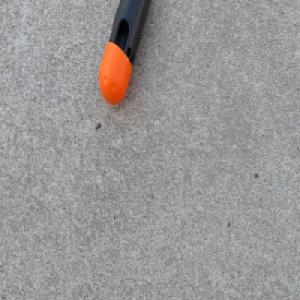PlasticPart: (97, 0, 151, 105)
